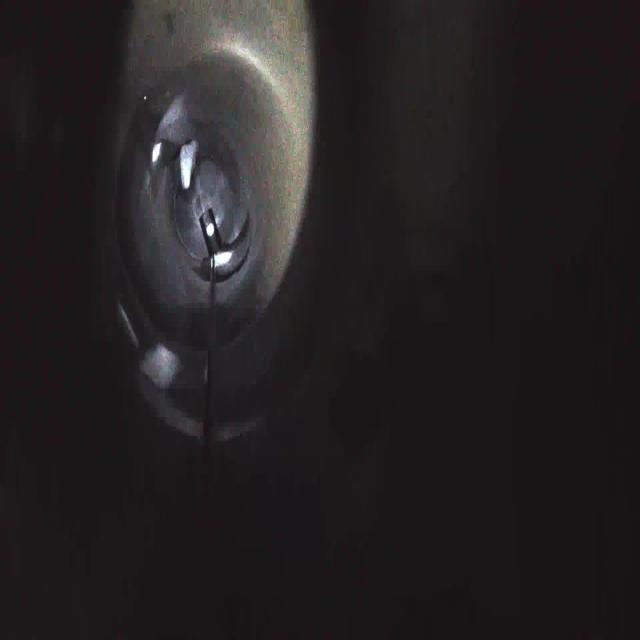impurity: (176, 127, 200, 193)
